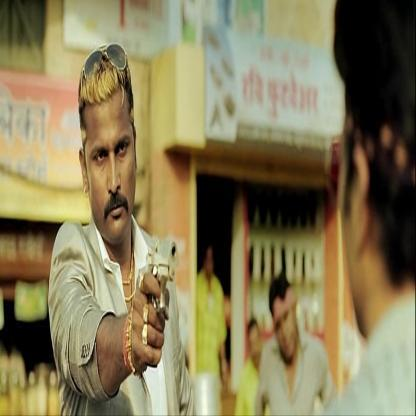gun: (140, 230, 190, 327)
